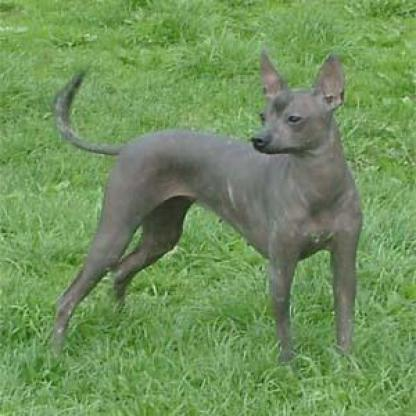Mexican_hairless: (5, 51, 362, 372)
